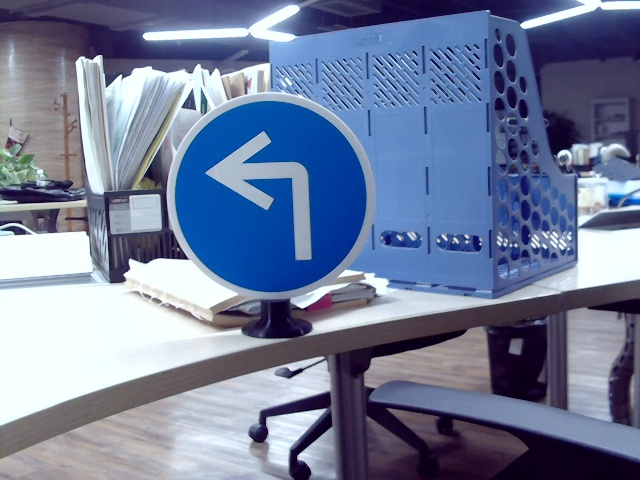turn_left: (206, 126, 323, 266)
